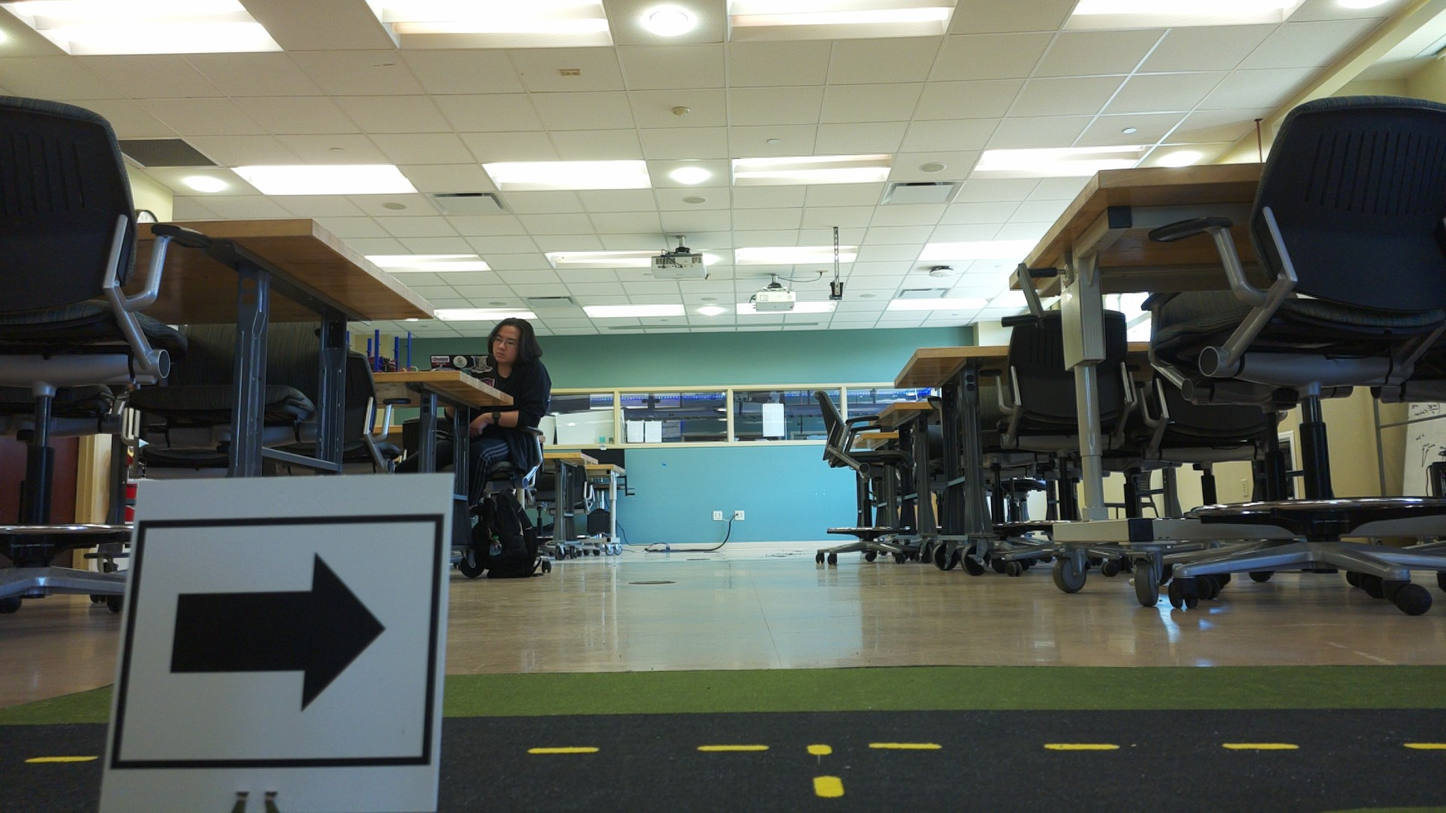turnright: (139, 526, 432, 771)
yellowline: (526, 741, 1446, 756), (806, 744, 847, 802)
